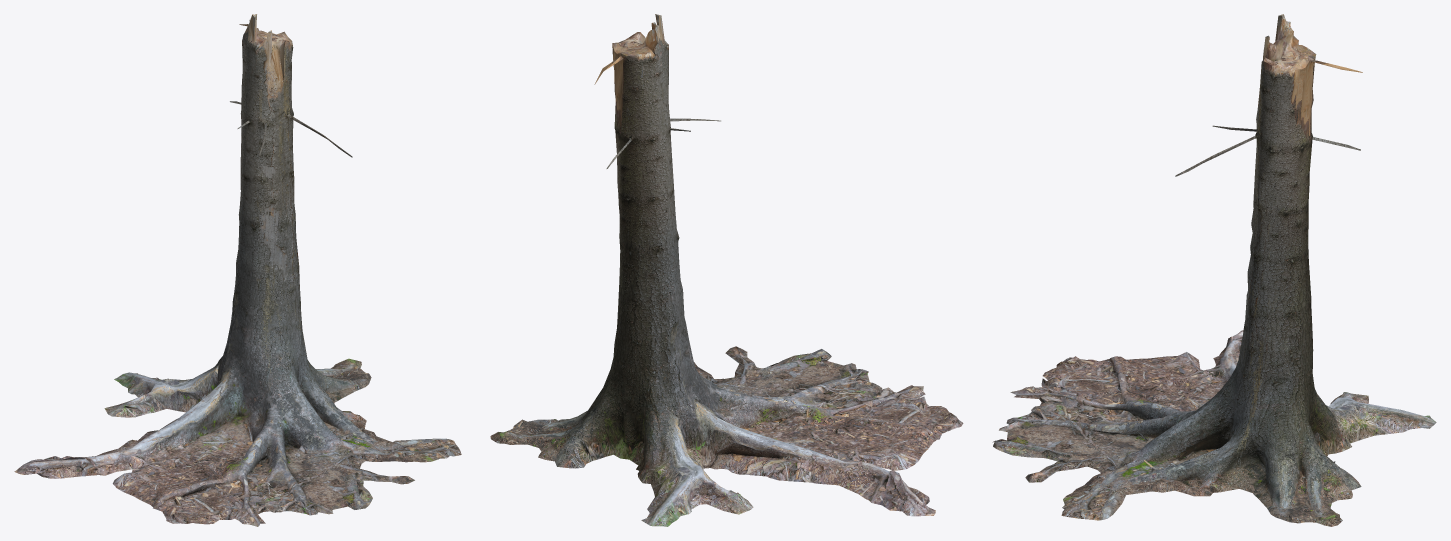
The model's file is sm_BrokenTree_01_01.fbx.
3 renders of one model, left to right at view 1: azimuth 30°, elevation 25°; view 2: azimuth 150°, elevation 25°; view 3: azimuth 270°, elevation 25°, orthographic. The views are drawn at different scales.
Parts seen in each view (by area): view 1: sm_BrokenTree_01_01_LOD0; view 2: sm_BrokenTree_01_01_LOD0; view 3: sm_BrokenTree_01_01_LOD0.
Part boxes in pixels (x1,y1,x2,y2): sm_BrokenTree_01_01_LOD0: [14, 14, 461, 526]; sm_BrokenTree_01_01_LOD0: [490, 14, 963, 526]; sm_BrokenTree_01_01_LOD0: [992, 14, 1436, 526].
Size of the model in its own units: 248 by 228 by 250.
